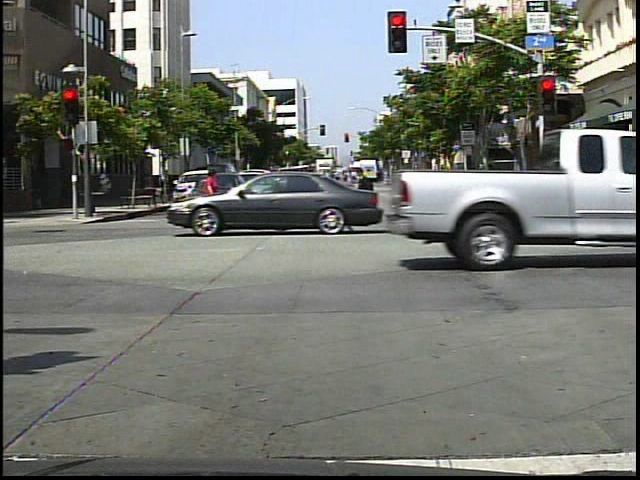person: (351, 165, 386, 234), (403, 162, 434, 226), (567, 157, 589, 207), (198, 166, 218, 198)
